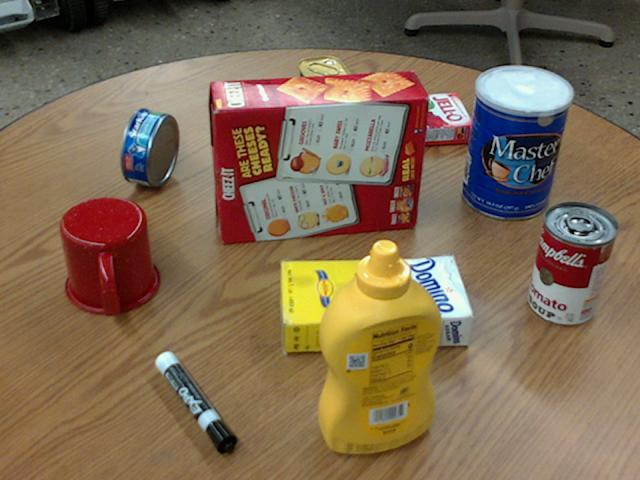cracker_box: (210, 70, 426, 243)
gelatin_box: (403, 92, 474, 142)
large_marker: (154, 352, 234, 452)
master_chef_can: (461, 65, 571, 219)
mug: (61, 197, 160, 313)
mustard_bottle: (317, 240, 440, 453)
potted_meat_can: (298, 55, 360, 151)
sugar_box: (279, 257, 473, 351)
tomato_soup_can: (529, 201, 617, 325)
tuna_fish_can: (121, 109, 177, 187)
